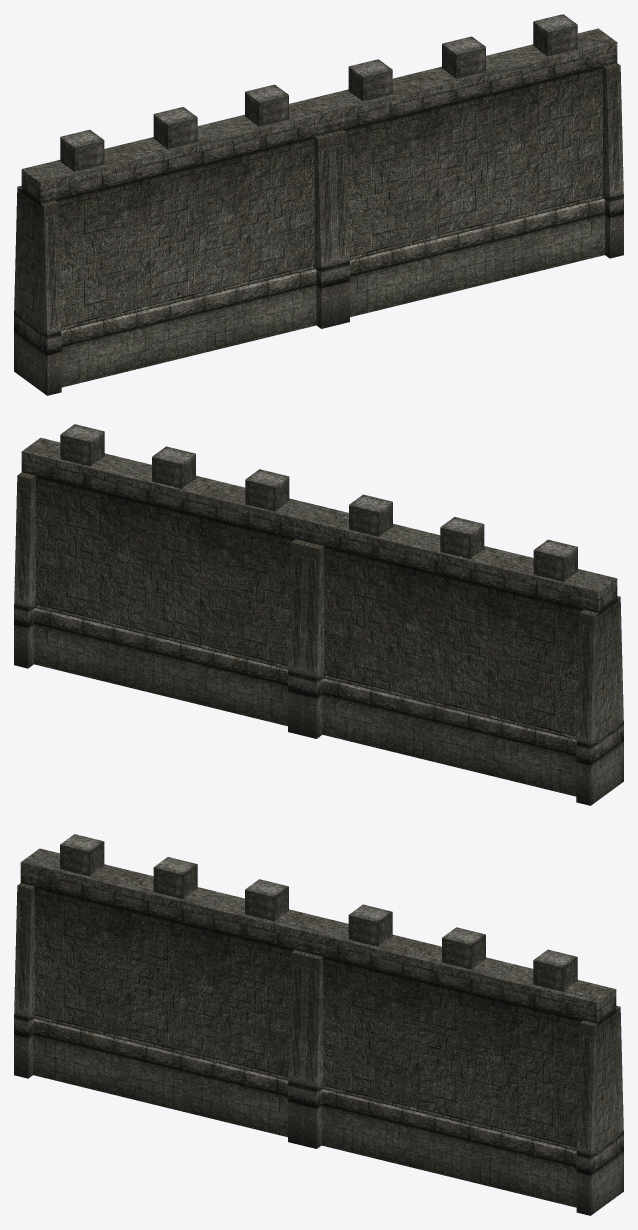
The model's file is ep-bigdam-03.fbx.
3 renders of one model, top to bottom at view 1: azimuth 30°, elevation 25°; view 2: azimuth 150°, elevation 25°; view 3: azimuth 330°, elevation 25°, orthographic.
Parts seen in each view (by area): view 1: ep-bigdam-03; view 2: ep-bigdam-03; view 3: ep-bigdam-03.
Part boxes in pixels (bbox=[...]): ep-bigdam-03: bbox=[14, 14, 623, 395]; ep-bigdam-03: bbox=[14, 424, 623, 805]; ep-bigdam-03: bbox=[14, 834, 623, 1215].
Size of the model in its own units: 20 by 7.71 by 2.
